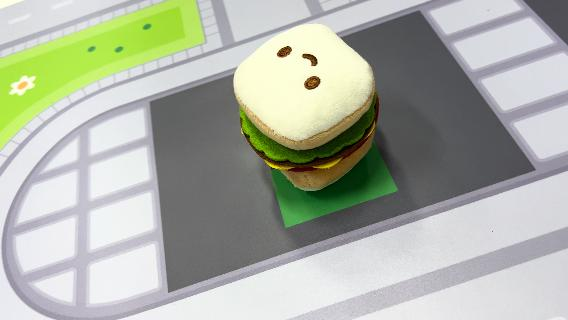sandwich: (231, 21, 383, 192)
